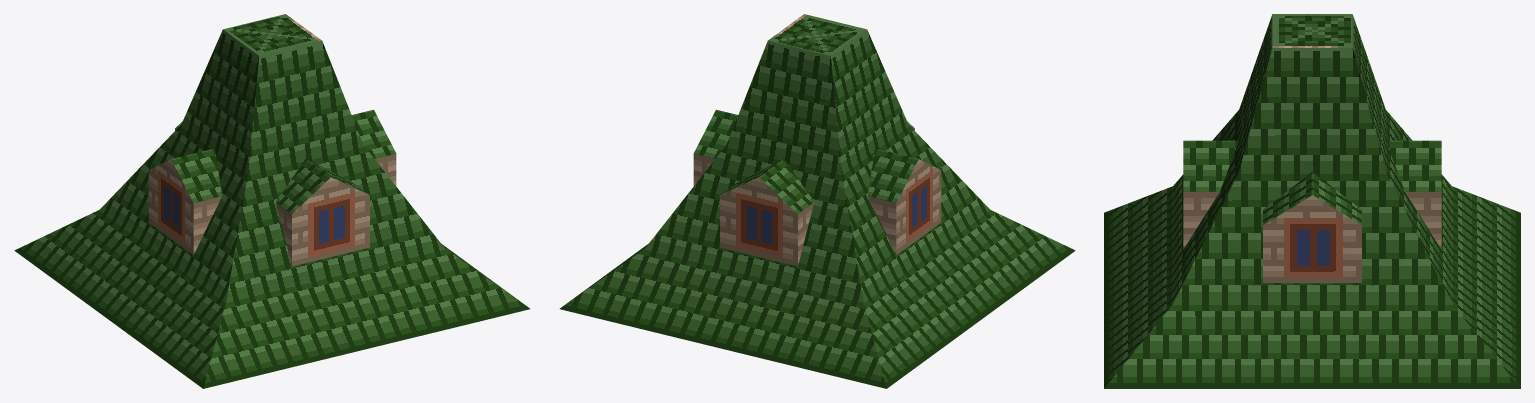
Rendered from roofth.FBX.
3 views of the same model, side by side, from view 1: azimuth 30°, elevation 25°; view 2: azimuth 150°, elevation 25°; view 3: azimuth 270°, elevation 25° (orthographic). The views are drawn at different scales.
Parts seen in each view (by area): view 1: btop001; view 2: btop001; view 3: btop001.
Boxes of the visible parts, <box> form: btop001: <box>14,14,529,388</box>; btop001: <box>560,14,1075,388</box>; btop001: <box>1104,14,1520,388</box>.
Size of the model in its own units: 70 by 50 by 70.
